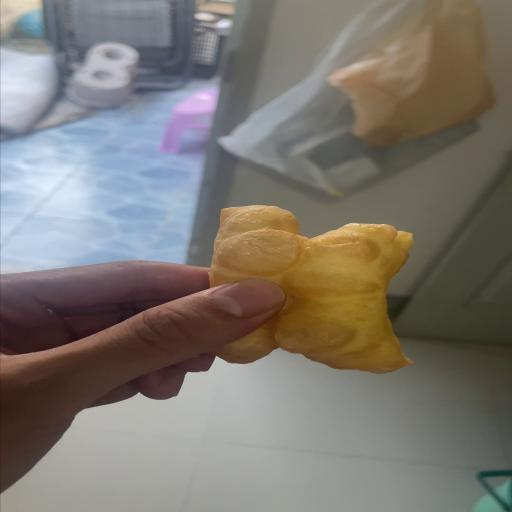street_golden_good: (211, 206, 415, 372)
